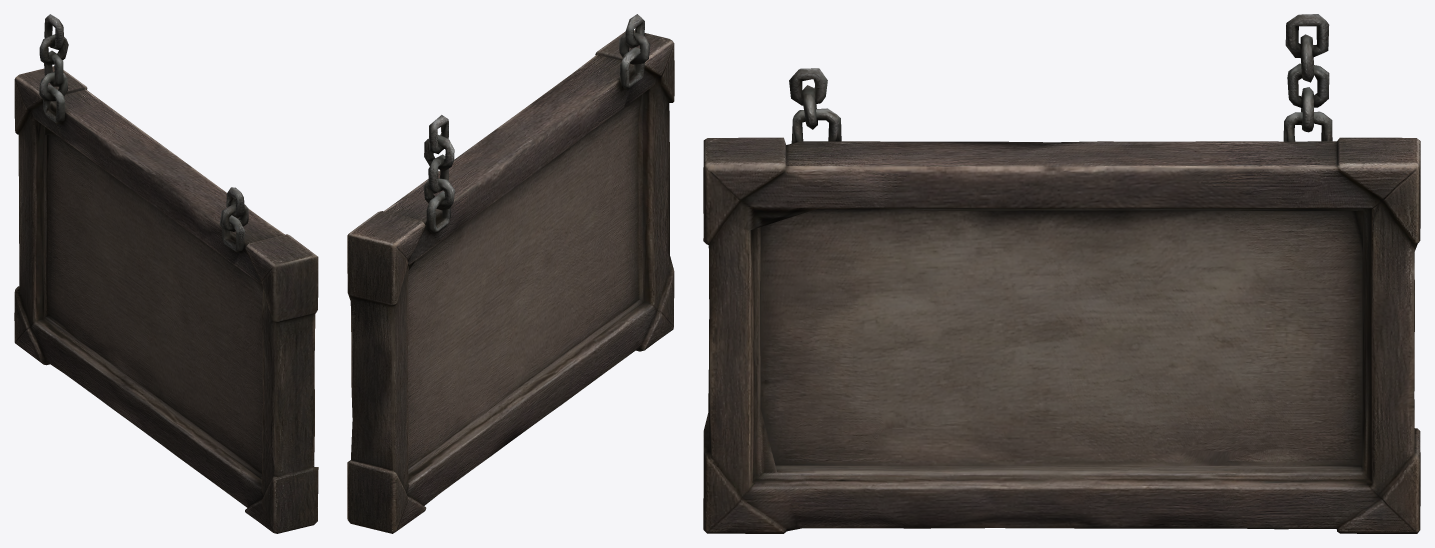
File: post_office_hanging_sign.glb
3 views of the same model, side by side, from view 1: azimuth 30°, elevation 25°; view 2: azimuth 150°, elevation 25°; view 3: azimuth 270°, elevation 25° (orthographic). The views are drawn at different scales.
Parts seen in each view (by area): view 1: tripo_node_d6c119b9-caf6-4995-8ca9-b3f48dc1b5c1; view 2: tripo_node_d6c119b9-caf6-4995-8ca9-b3f48dc1b5c1; view 3: tripo_node_d6c119b9-caf6-4995-8ca9-b3f48dc1b5c1.
Part boxes in pixels (x1=…): tripo_node_d6c119b9-caf6-4995-8ca9-b3f48dc1b5c1: x1=14, y1=14, x2=318, y2=533; tripo_node_d6c119b9-caf6-4995-8ca9-b3f48dc1b5c1: x1=347, y1=14, x2=674, y2=533; tripo_node_d6c119b9-caf6-4995-8ca9-b3f48dc1b5c1: x1=703, y1=14, x2=1420, y2=533.
Bounding box in the file's own units: 0.133 × 0.757 × 1.
Materials: 1 (1 with a texture image).
